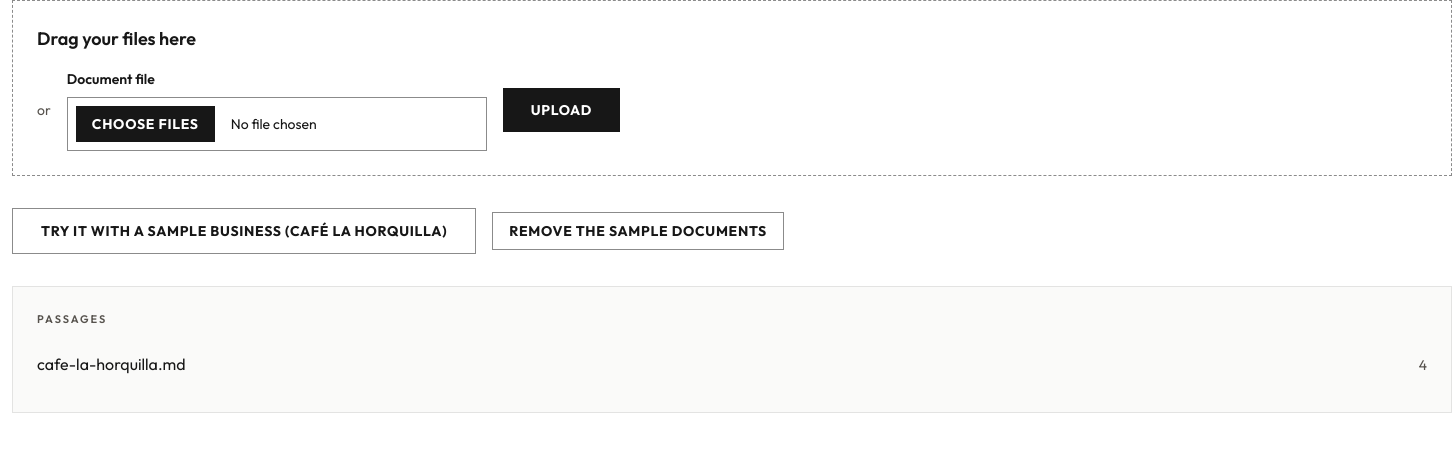
Test: the information lane › undoes the sample business with one request that also clears its name
Click the button "Remove the sample documents" at point(638, 231), box [492,212,784,250]
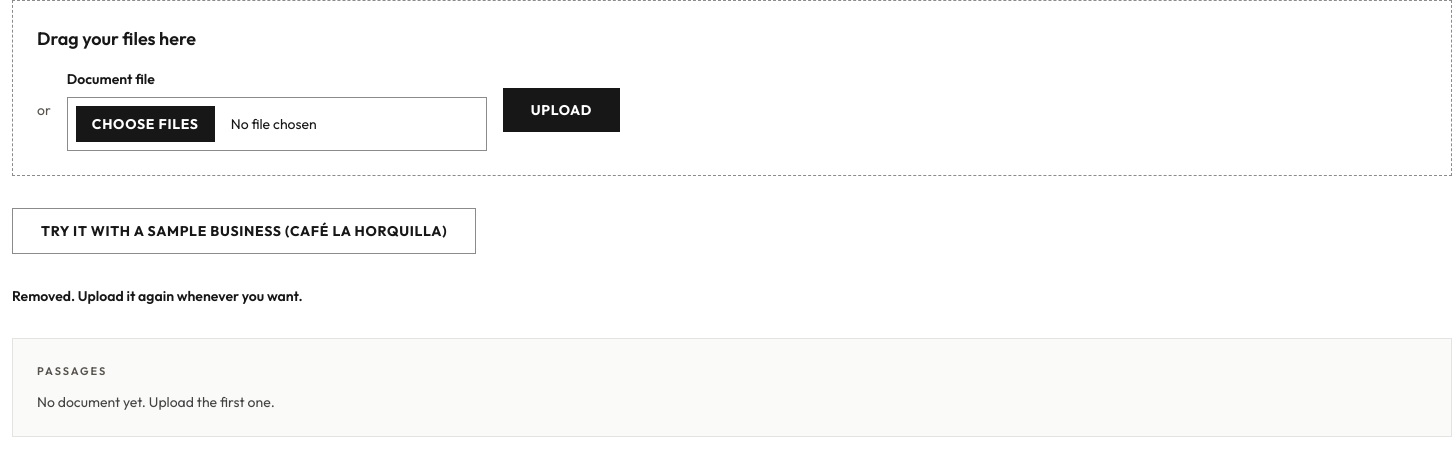
Check: the text "Removed. Upload it again whenever you want." is shown, box [12,287,303,305]
